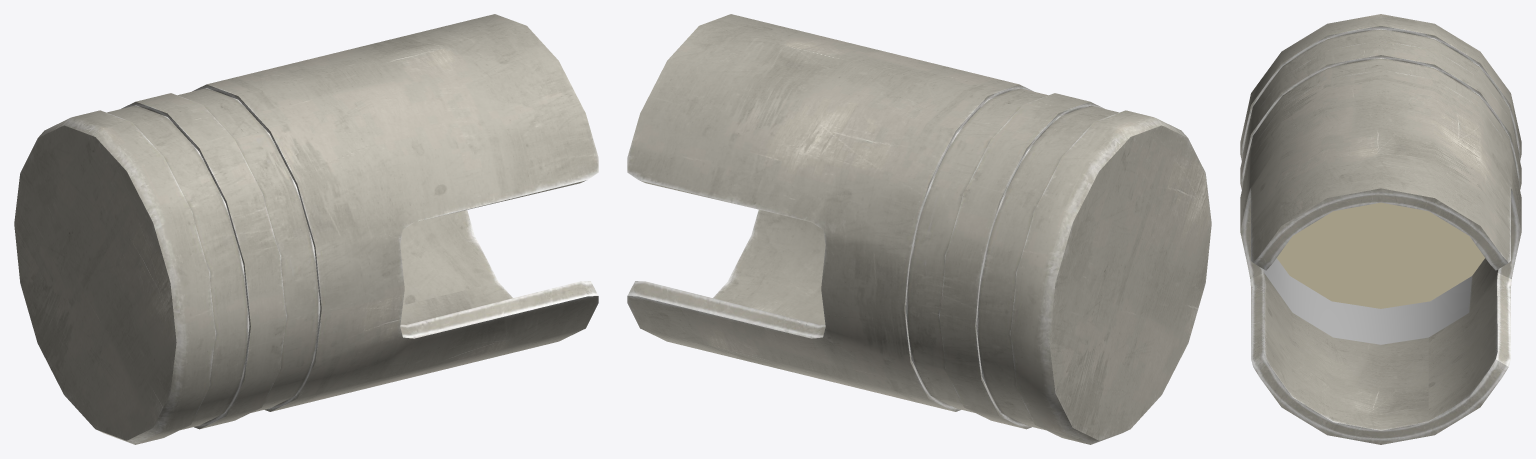
The model's file is guard_3_c_a.glb.
The picture shows the model from 3 angles, left to right: view 1: azimuth 30°, elevation 25°; view 2: azimuth 150°, elevation 25°; view 3: azimuth 270°, elevation 25°; orthographic projection. The views are drawn at different scales.
Visible parts, largest first — view 1: guard_3_c_a_lod0; view 2: guard_3_c_a_lod0; view 3: guard_3_c_a_lod0.
Boxes of the visible parts, bbox=[...] form: guard_3_c_a_lod0: bbox=[14, 14, 598, 444]; guard_3_c_a_lod0: bbox=[627, 14, 1211, 444]; guard_3_c_a_lod0: bbox=[1240, 14, 1521, 444].
Size of what is drawn, in the model's own units: 0.0462 by 0.0311 by 0.0309.
1 material, 1 textured.
